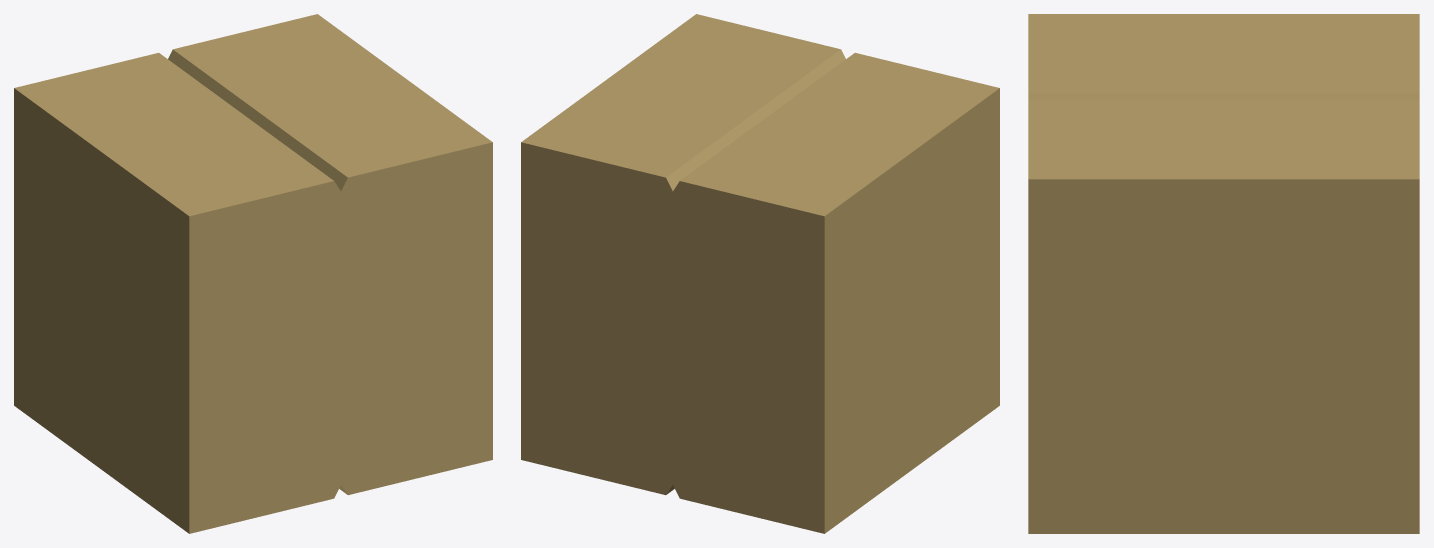
The picture shows the model from 3 angles, left to right: view 1: azimuth 30°, elevation 25°; view 2: azimuth 150°, elevation 25°; view 3: azimuth 270°, elevation 25°; orthographic projection. The views are drawn at different scales.
Visible parts, largest first — view 1: коробка; view 2: коробка; view 3: коробка.
Part boxes in pixels (box(x1,y1,x2,y2)): коробка: box(14, 14, 492, 533); коробка: box(521, 14, 999, 533); коробка: box(1028, 14, 1419, 533).
Bounding box in the file's own units: 121 × 121 × 121.
